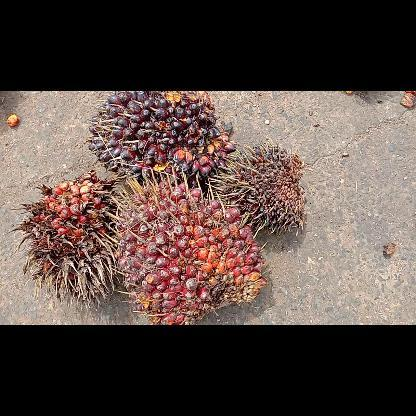Kurang masak: (84, 90, 233, 182)
TBS abnormal: (212, 139, 306, 237)
TBS masak: (117, 174, 268, 324)
Terlalu masak: (20, 171, 118, 303)
